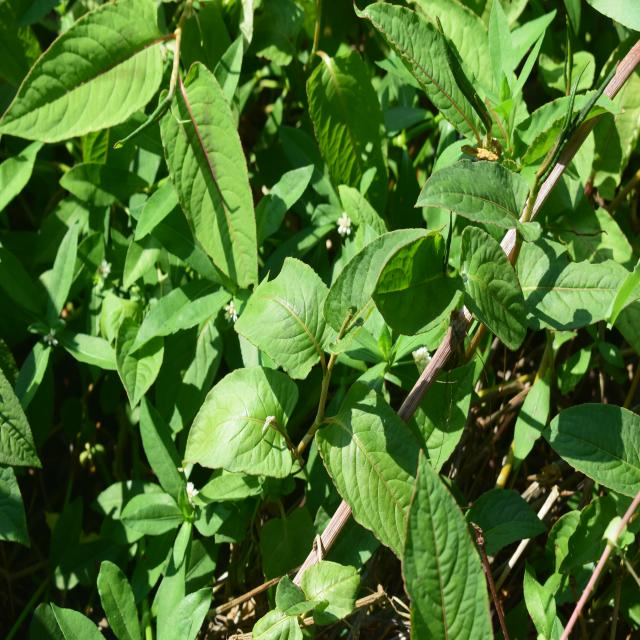Chinese_knotweed: (218, 217, 478, 613), (22, 18, 292, 249)
